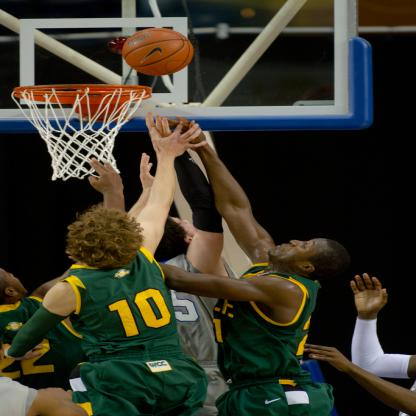Ball: (124, 29, 192, 77)
